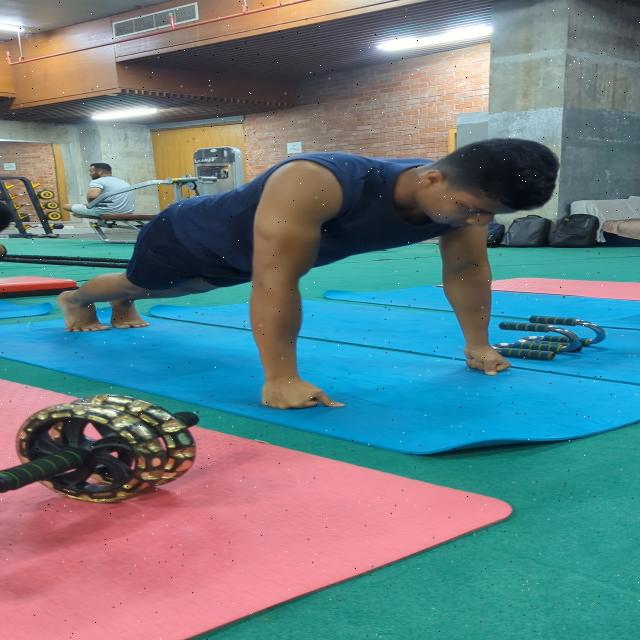Normal_PushUps: (47, 137, 584, 415)
